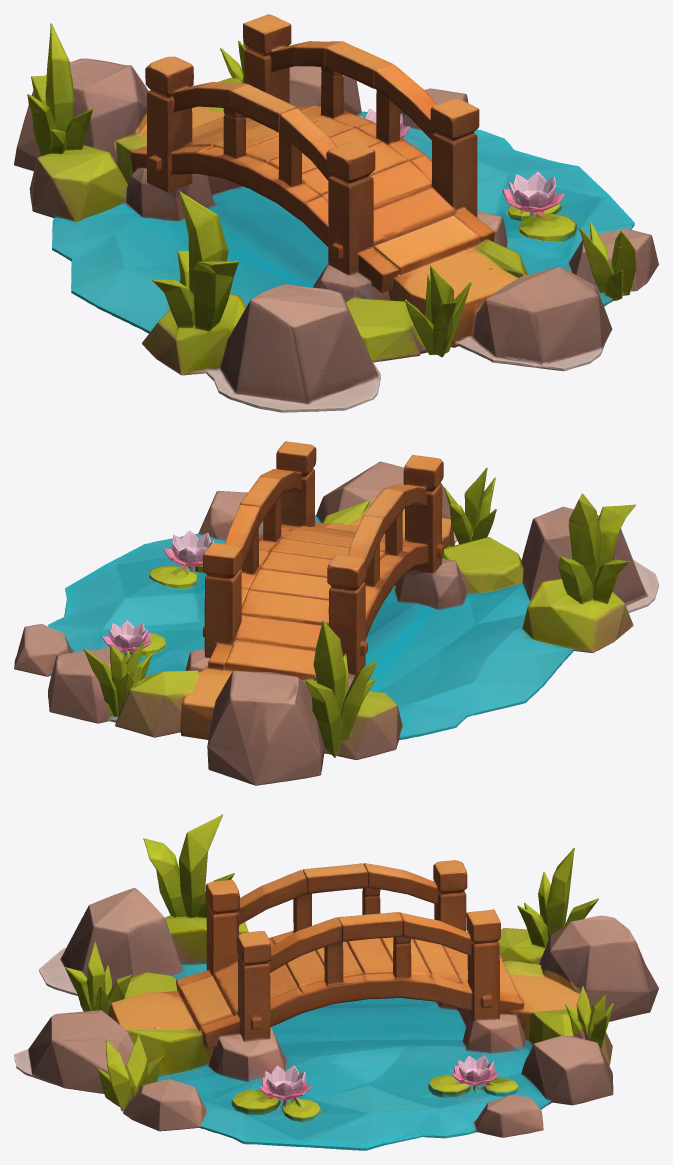
File: KeepSakePond.glb
3 renders of one model, top to bottom at view 1: azimuth 30°, elevation 25°; view 2: azimuth 150°, elevation 25°; view 3: azimuth 270°, elevation 25°, orthographic. The views are drawn at different scales.
Parts seen in each view (by area): view 1: tripo_node_f258d44f-e30e-4e2a-bdb7-5318c9a357ed; view 2: tripo_node_f258d44f-e30e-4e2a-bdb7-5318c9a357ed; view 3: tripo_node_f258d44f-e30e-4e2a-bdb7-5318c9a357ed.
Part boxes in pixels (bbox=[...]): tripo_node_f258d44f-e30e-4e2a-bdb7-5318c9a357ed: bbox=[14, 14, 658, 412]; tripo_node_f258d44f-e30e-4e2a-bdb7-5318c9a357ed: bbox=[14, 441, 658, 785]; tripo_node_f258d44f-e30e-4e2a-bdb7-5318c9a357ed: bbox=[14, 814, 658, 1150].
Bounding box in the file's own units: 0.7896 × 0.2382 × 0.9817.
Materials: 1 (1 with a texture image).
